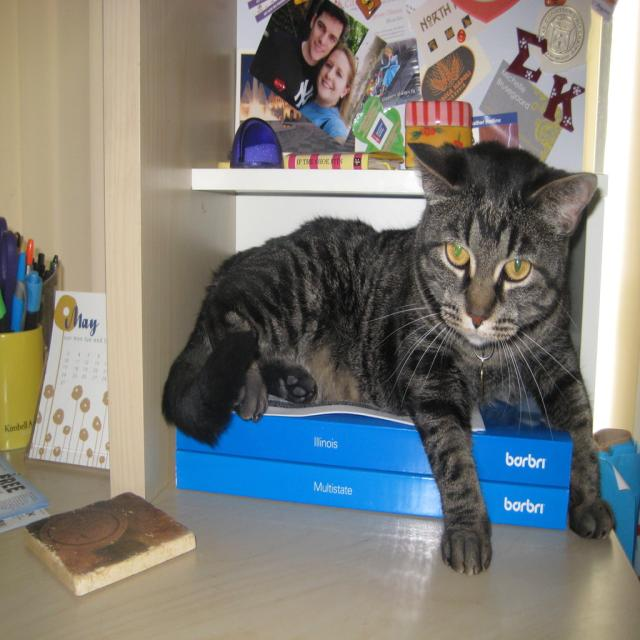Cat: (158, 138, 620, 582)
